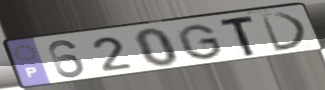0: (130, 27, 182, 68)
2: (91, 36, 136, 73)
6: (47, 39, 87, 80)
D: (258, 11, 311, 54)
G: (175, 23, 226, 61)
T: (219, 14, 258, 59)
